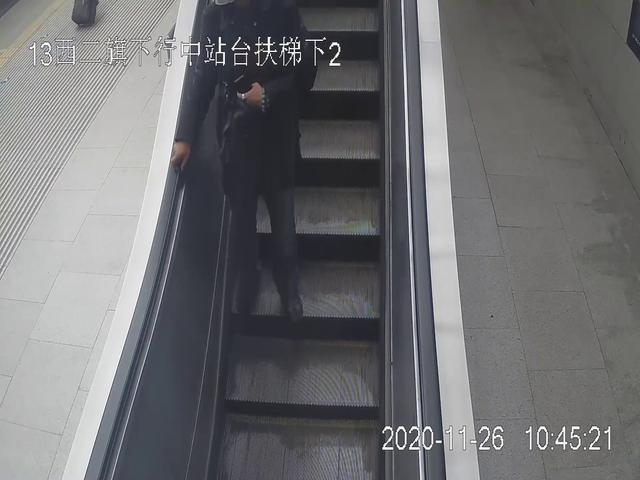person: (170, 1, 315, 322)
